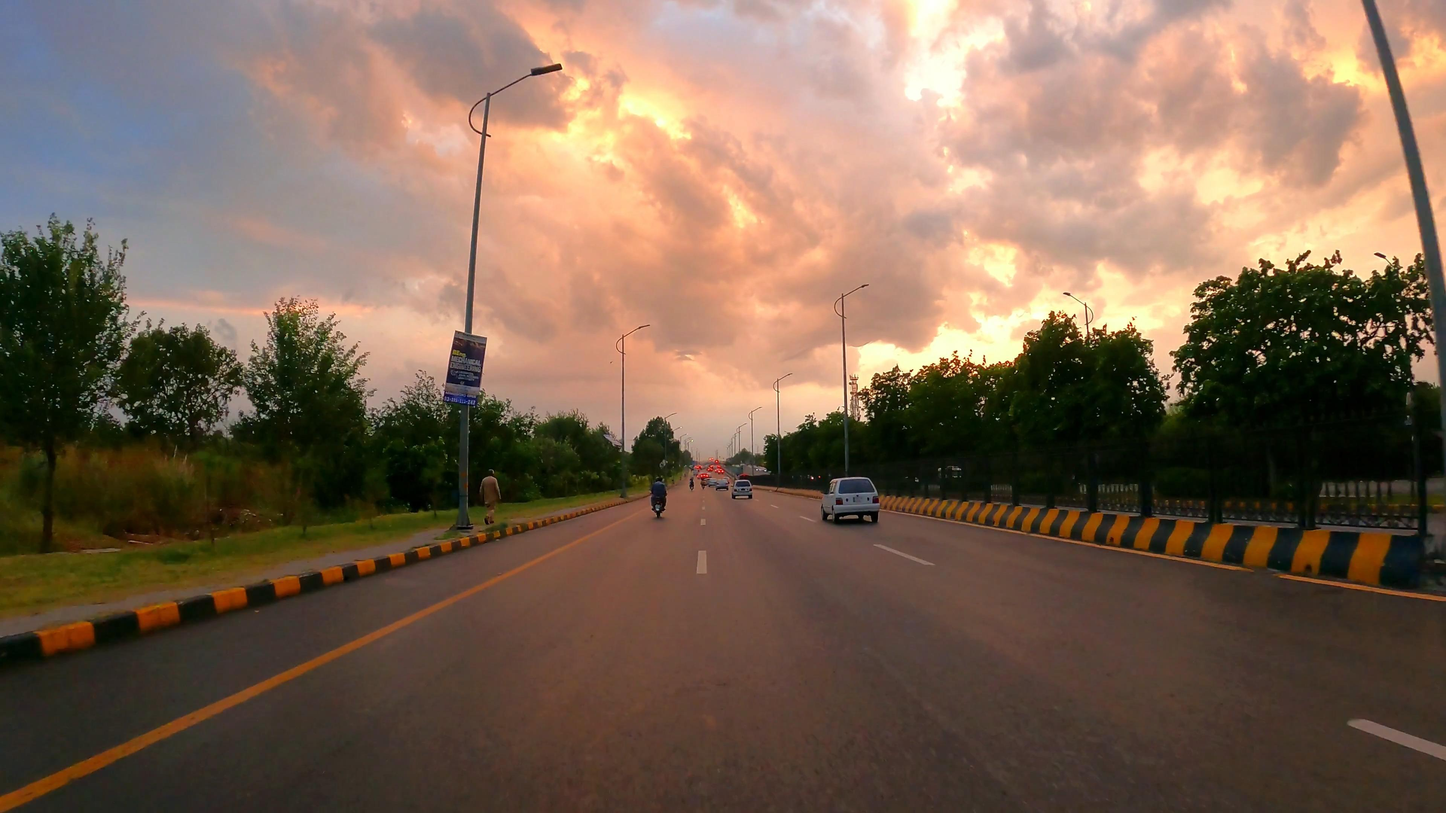dry: (0, 462, 1446, 813)
